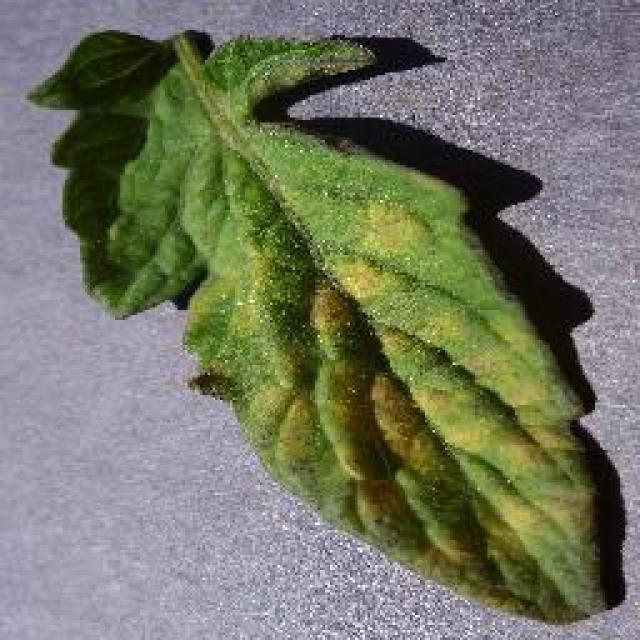Tomato___Leaf_Mold: (30, 30, 615, 620)
